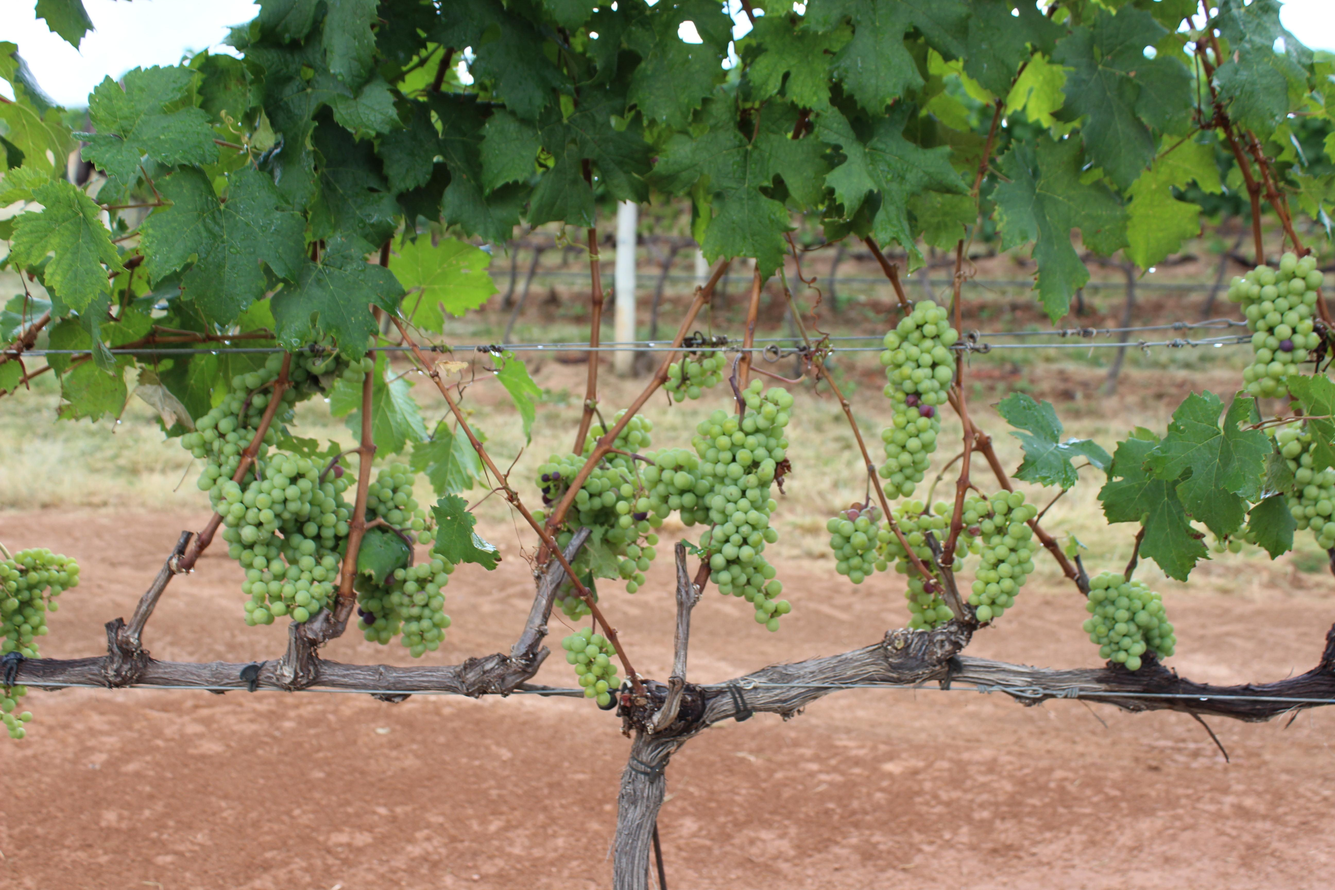leaf: (141, 165, 305, 324), (1054, 6, 1191, 188), (993, 136, 1125, 321), (817, 105, 968, 256), (805, 0, 968, 114), (1146, 391, 1272, 536), (75, 66, 217, 185), (1099, 429, 1208, 581), (271, 234, 403, 358), (10, 180, 123, 311), (1213, 0, 1312, 134), (1126, 139, 1221, 268), (997, 393, 1112, 489), (390, 235, 496, 332), (747, 15, 852, 109), (963, 0, 1063, 97), (371, 352, 427, 455), (431, 494, 500, 570), (410, 423, 482, 495), (322, 0, 378, 90), (481, 109, 541, 193), (1287, 375, 1335, 472), (493, 351, 542, 440), (357, 527, 412, 584), (1248, 494, 1296, 559), (35, 0, 94, 48), (329, 379, 363, 435), (475, 431, 476, 434)
